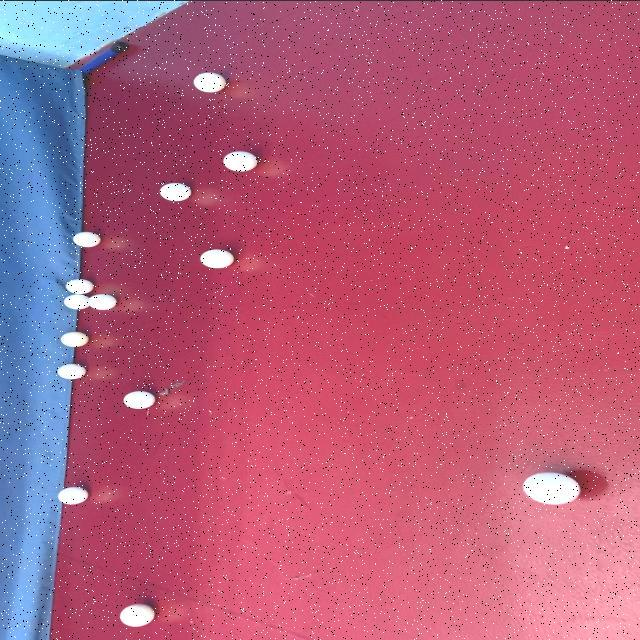ping-pong-ball: (520, 470, 584, 506), (116, 600, 159, 628), (220, 148, 260, 174), (190, 68, 229, 94), (155, 178, 197, 202), (195, 247, 238, 270), (120, 387, 158, 410), (55, 483, 91, 505), (53, 360, 89, 380), (58, 328, 92, 349), (70, 228, 104, 248), (86, 292, 120, 309), (65, 276, 96, 292), (60, 292, 90, 308)
